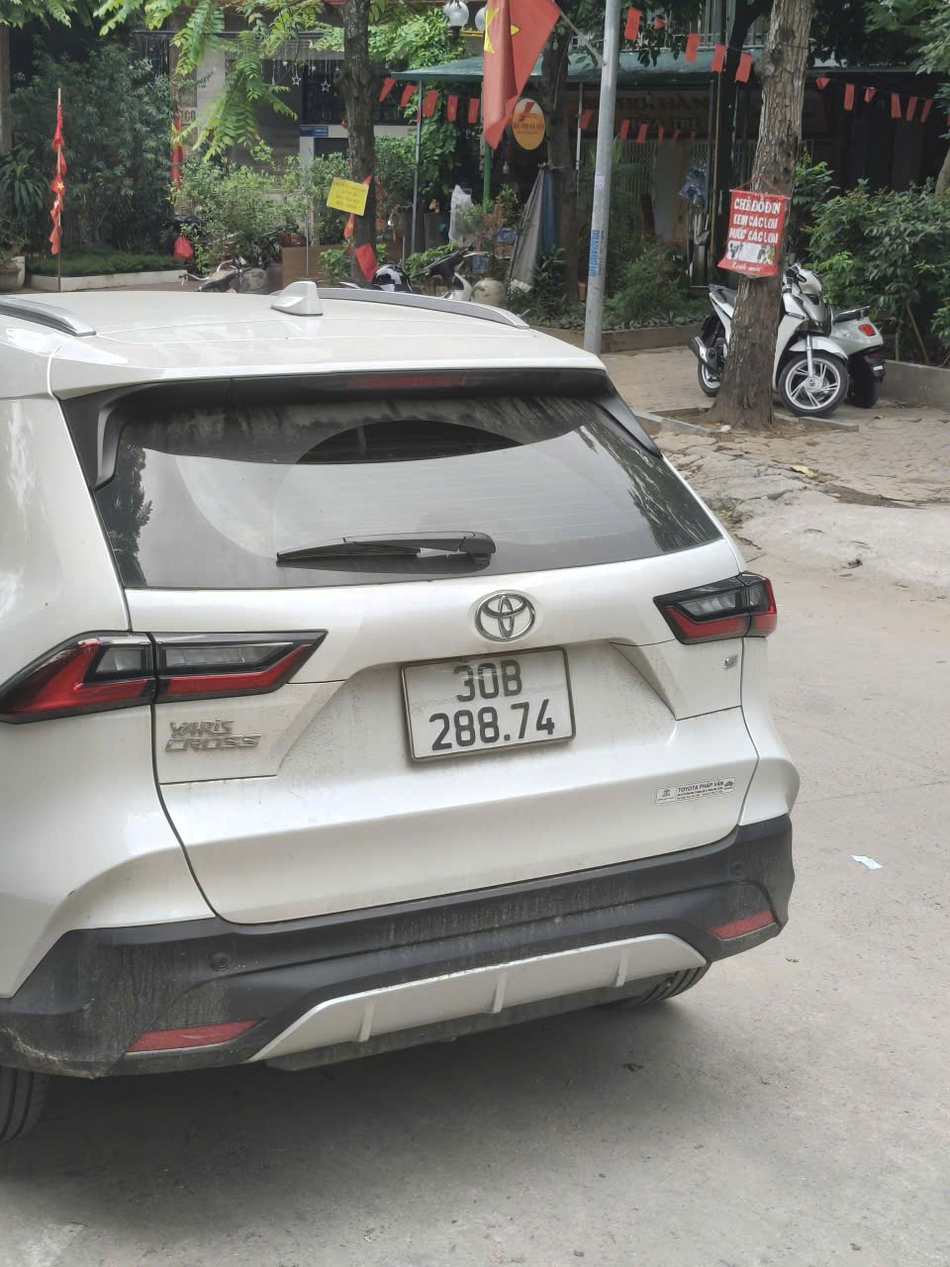plate: (157, 715, 268, 758)
